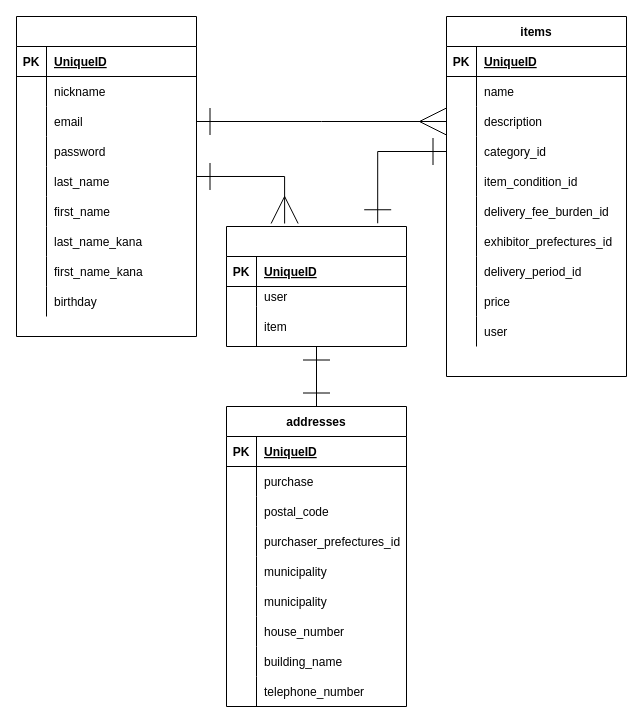
The diagram is 643 pixels wide and 723 high, and some of its shapes have lost their labels. The shapes that lost their labels are listed below. From the top down, each one's box as (x1, y1, x2, y2) in pixels, then its label:
(16, 16, 196, 336): users
(226, 226, 406, 346): purchases
